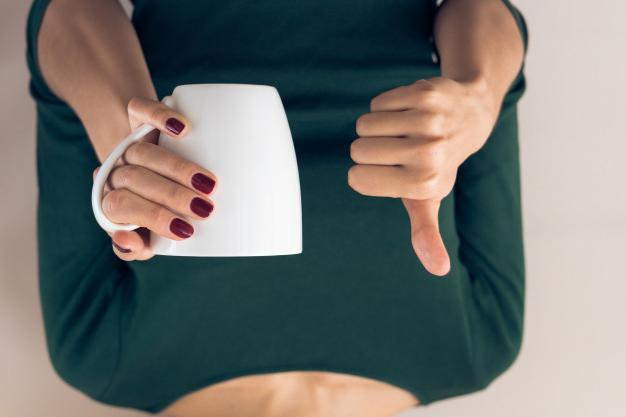thumbsdown: (346, 81, 452, 277)
